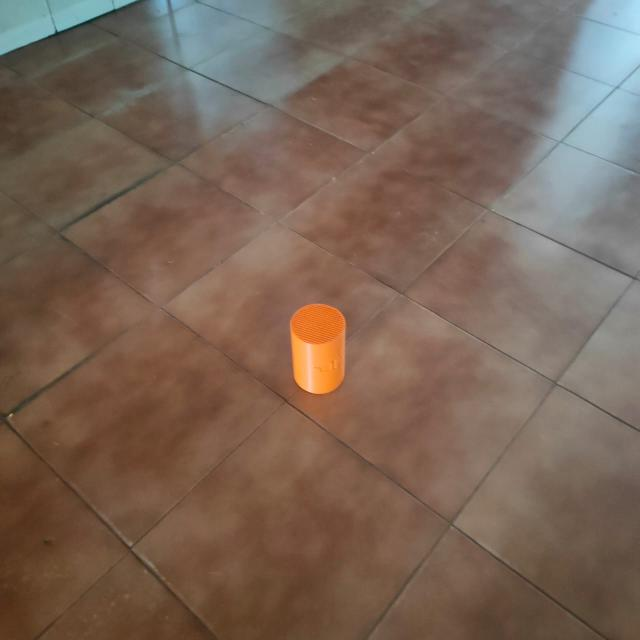Cylinder: (289, 302, 346, 394)
